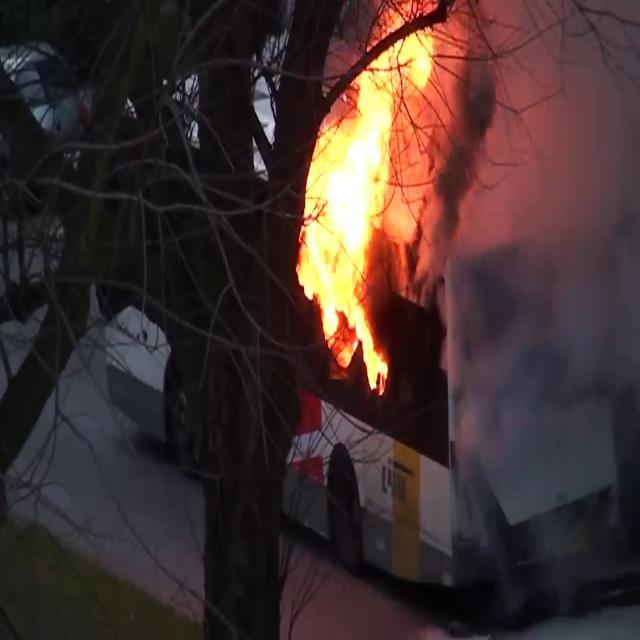Fire: (288, 19, 453, 385)
Smoke: (439, 0, 640, 618)
